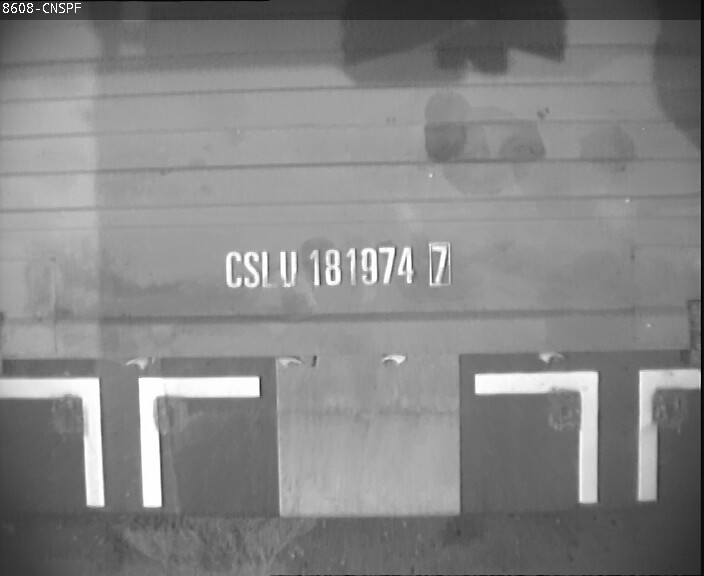groundmarker_1: (1, 373, 259, 506), (474, 368, 704, 504)
